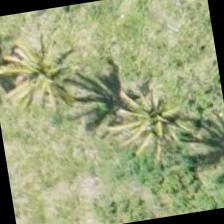Kelapa_Sawit: (108, 57, 210, 160), (0, 16, 93, 120), (0, 12, 40, 83)
